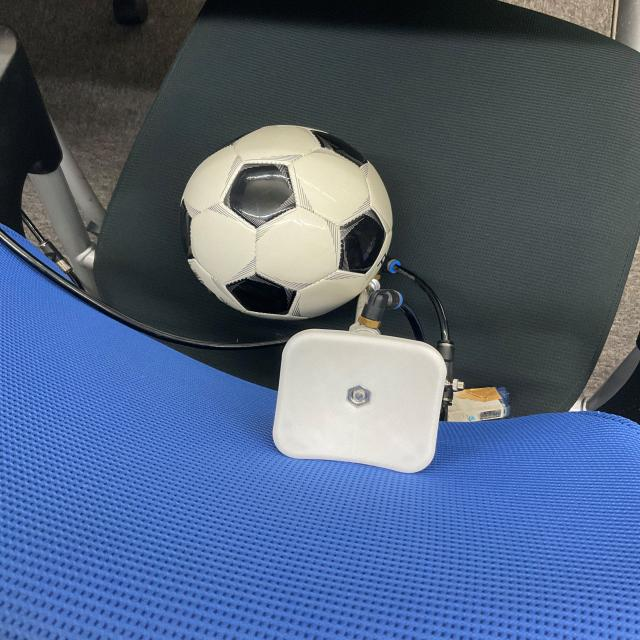ball: (180, 125, 394, 322)
